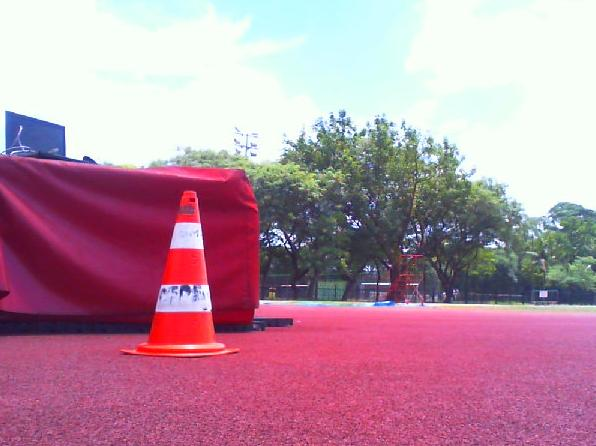0 cone: (119, 190, 239, 358)
